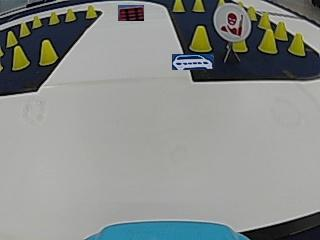evil: (213, 4, 250, 42)
